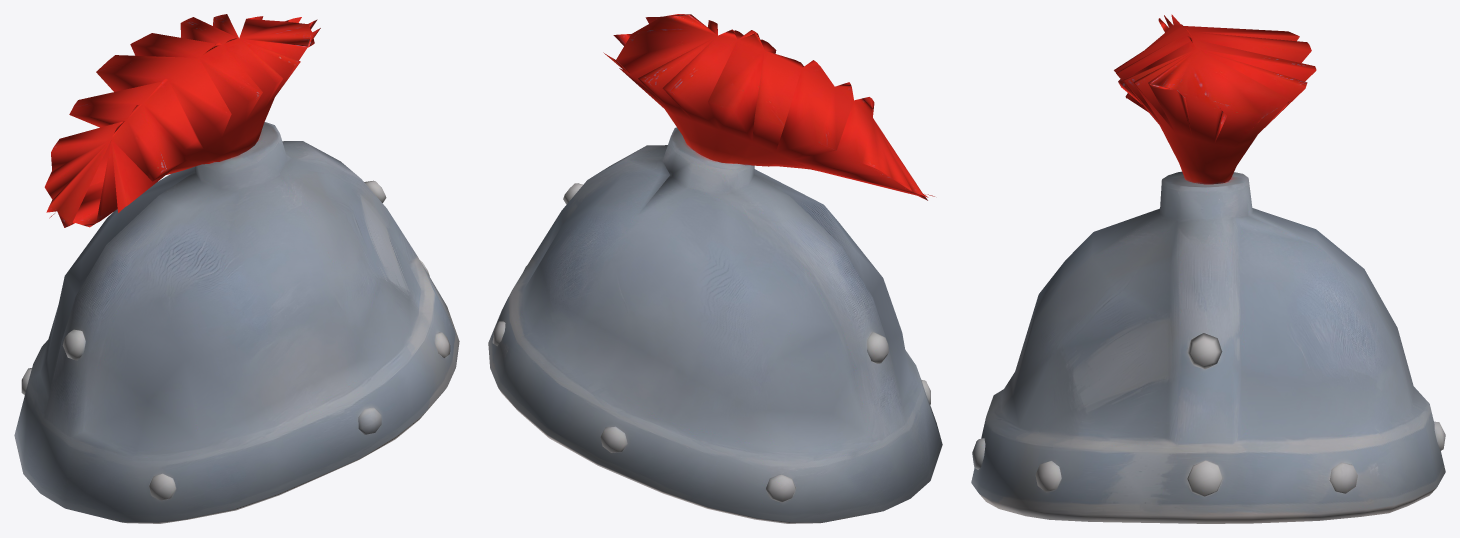
The model's file is grunt_helmet.glb.
3 renders of one model, left to right at view 1: azimuth 30°, elevation 25°; view 2: azimuth 150°, elevation 25°; view 3: azimuth 270°, elevation 25°, orthographic. The views are drawn at different scales.
Parts seen in each view (by area): view 1: tripo_node_0d474665-d539-4bfc-8010-aebfedc4f36c; view 2: tripo_node_0d474665-d539-4bfc-8010-aebfedc4f36c; view 3: tripo_node_0d474665-d539-4bfc-8010-aebfedc4f36c.
Boxes of the visible parts, box(x1,y1,x2,y2) form: tripo_node_0d474665-d539-4bfc-8010-aebfedc4f36c: box(14, 14, 459, 523); tripo_node_0d474665-d539-4bfc-8010-aebfedc4f36c: box(488, 14, 942, 523); tripo_node_0d474665-d539-4bfc-8010-aebfedc4f36c: box(971, 14, 1445, 523).
Bounding box in the file's own units: 0.9902 × 0.998 × 0.8652.
Materials: 1 (1 with a texture image).
